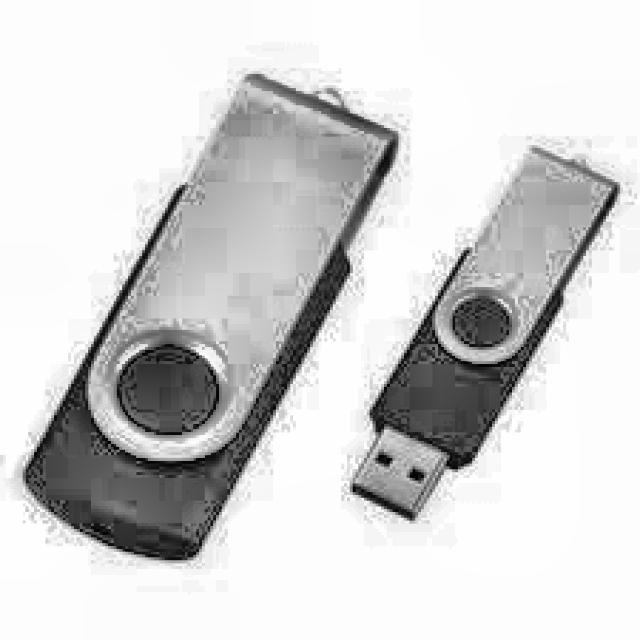Mug: (15, 58, 406, 567), (343, 136, 630, 527)
